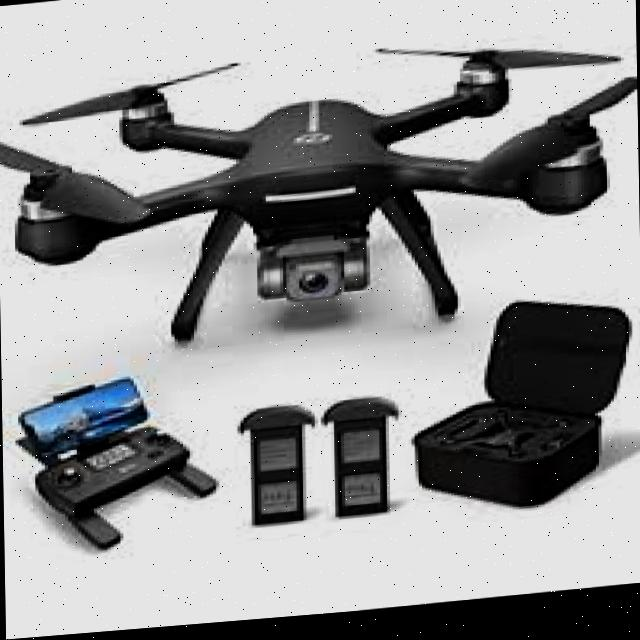drone: (0, 9, 640, 373)
